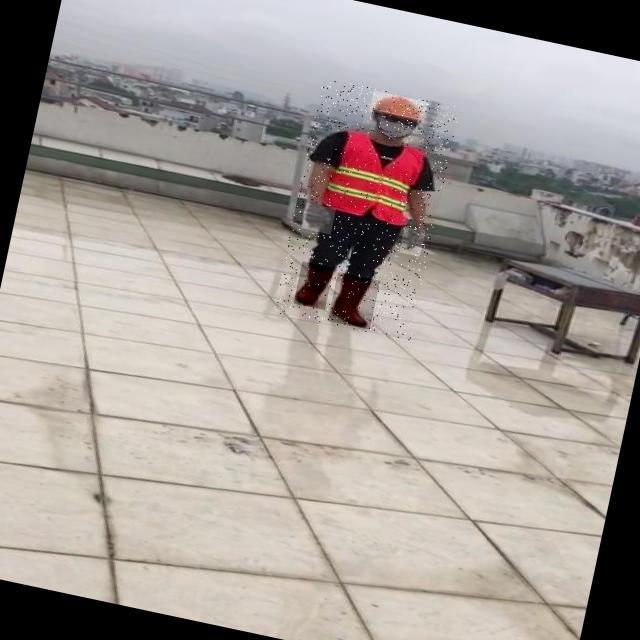Gloves: (301, 203, 336, 235), (400, 226, 427, 257)
Helmet: (369, 90, 428, 122)
Human: (273, 77, 460, 341)
Safety Boot: (328, 272, 380, 330), (293, 261, 333, 310)
Safety Vest: (321, 128, 426, 227)
